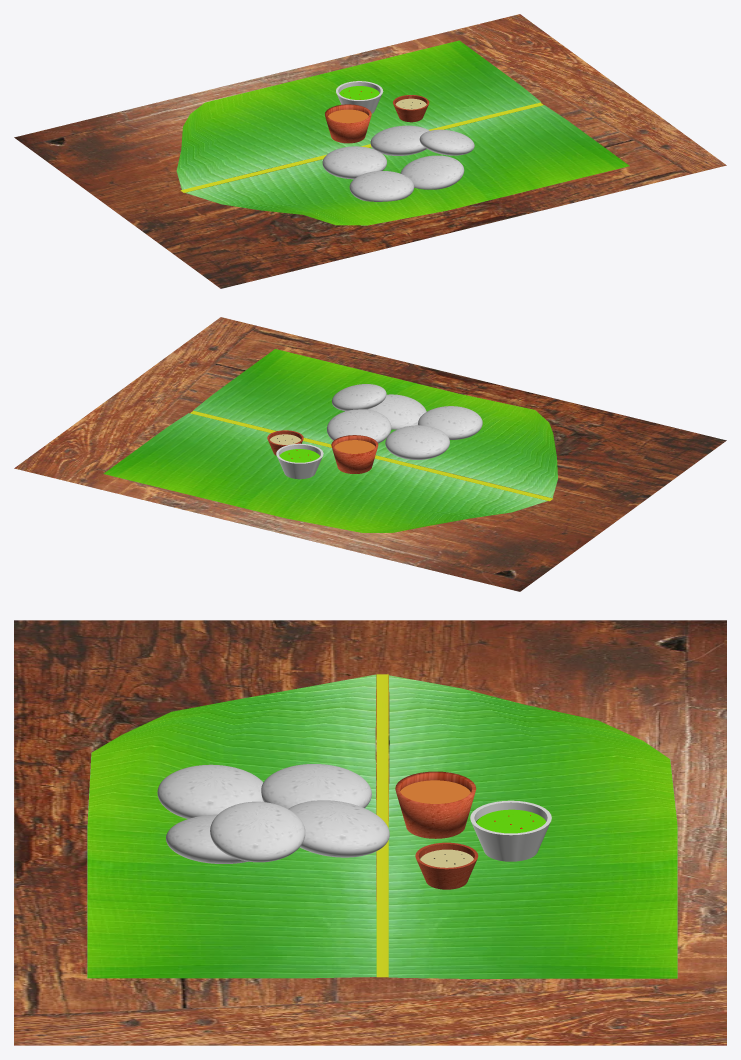
The picture shows the model from 3 angles, top to bottom: view 1: azimuth 30°, elevation 25°; view 2: azimuth 150°, elevation 25°; view 3: azimuth 270°, elevation 25°; orthographic projection. The views are drawn at different scales.
Parts seen in each view (by area): view 1: Plane_Material.026_0, Plane.001_Material.002_0, Sphere_Material.004_0, Plane.001_Material.001_0, Circle.001_Material.006_0, Sphere.010_Material.020_0; view 2: Plane_Material.026_0, Plane.001_Material.002_0, Sphere_Material.004_0, Plane.001_Material.001_0, Circle.001_Material.006_0; view 3: Plane_Material.026_0, Plane.001_Material.002_0, Sphere_Material.004_0, Plane.001_Material.001_0, Circle.001_Material.006_0, Sphere.010_Material.020_0.
Part boxes in pixels (box(x1,y1,x2,y2)): Plane_Material.026_0: box(14, 14, 726, 288); Plane.001_Material.002_0: box(176, 40, 629, 225); Sphere_Material.004_0: box(322, 125, 474, 201); Plane.001_Material.001_0: box(180, 81, 543, 192); Circle.001_Material.006_0: box(325, 104, 371, 143); Sphere.010_Material.020_0: box(393, 95, 429, 122); Plane_Material.026_0: box(14, 317, 726, 591); Plane.001_Material.002_0: box(103, 349, 557, 532); Sphere_Material.004_0: box(327, 384, 482, 459); Plane.001_Material.001_0: box(190, 410, 553, 501); Circle.001_Material.006_0: box(331, 435, 378, 473); Plane_Material.026_0: box(14, 620, 726, 1045); Plane.001_Material.002_0: box(87, 674, 677, 978); Sphere_Material.004_0: box(157, 764, 389, 863); Plane.001_Material.001_0: box(376, 674, 551, 977); Circle.001_Material.006_0: box(395, 771, 476, 838); Sphere.010_Material.020_0: box(415, 842, 478, 889).
Bounding box in the file's own units: 4.77 × 0.3306 × 3.37.
6 materials, 6 textured.
